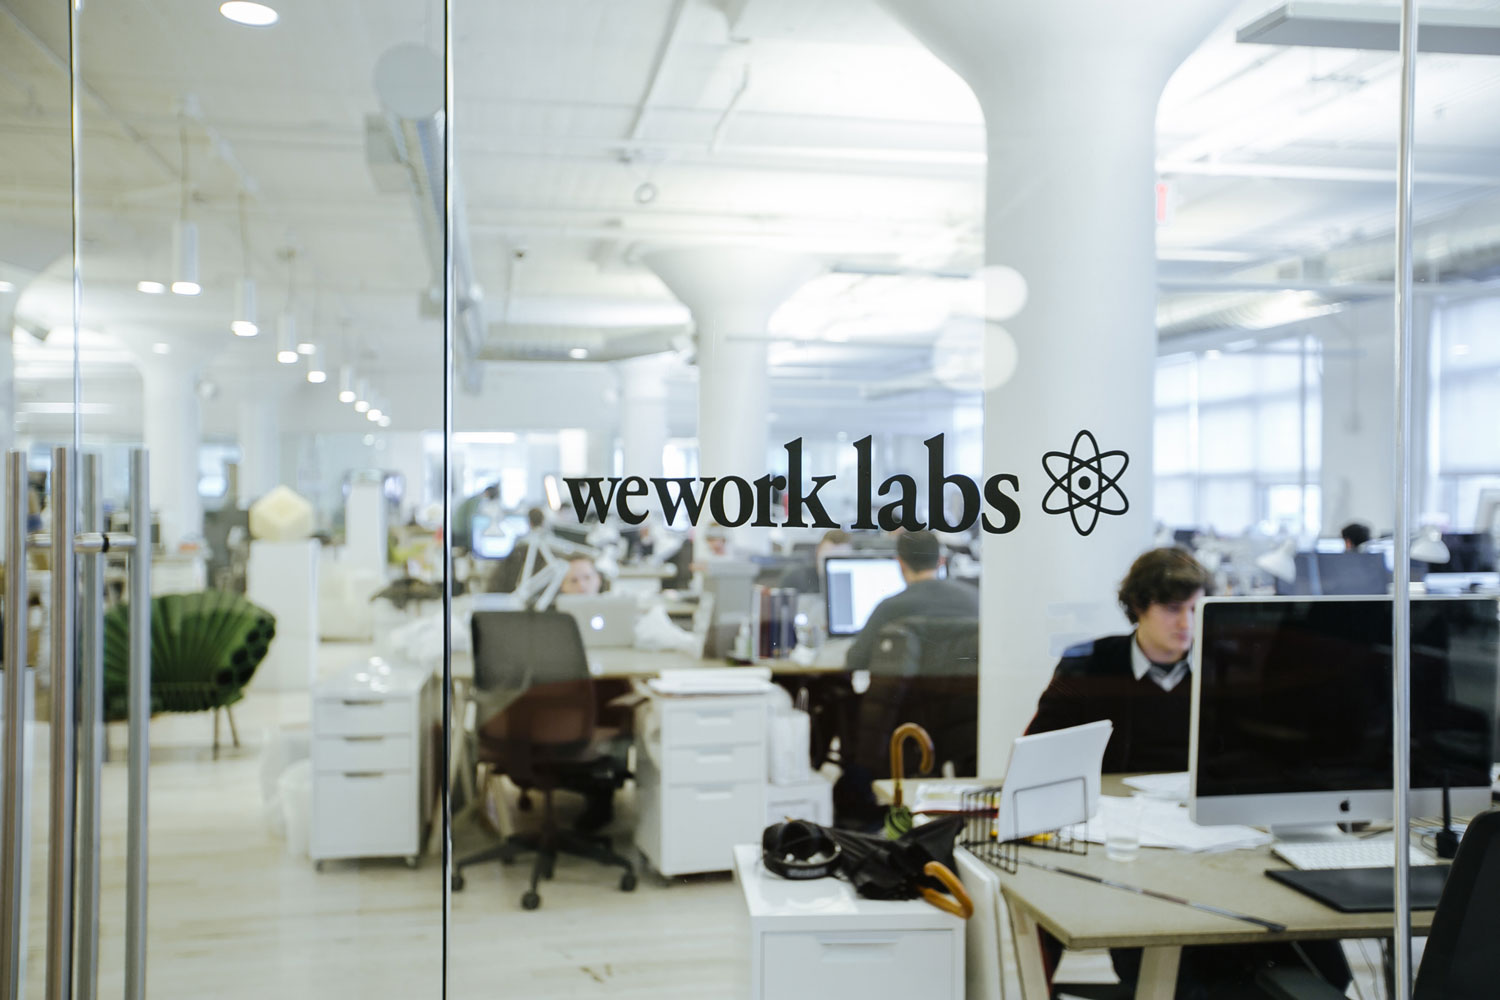wework: (556, 432, 847, 535)
